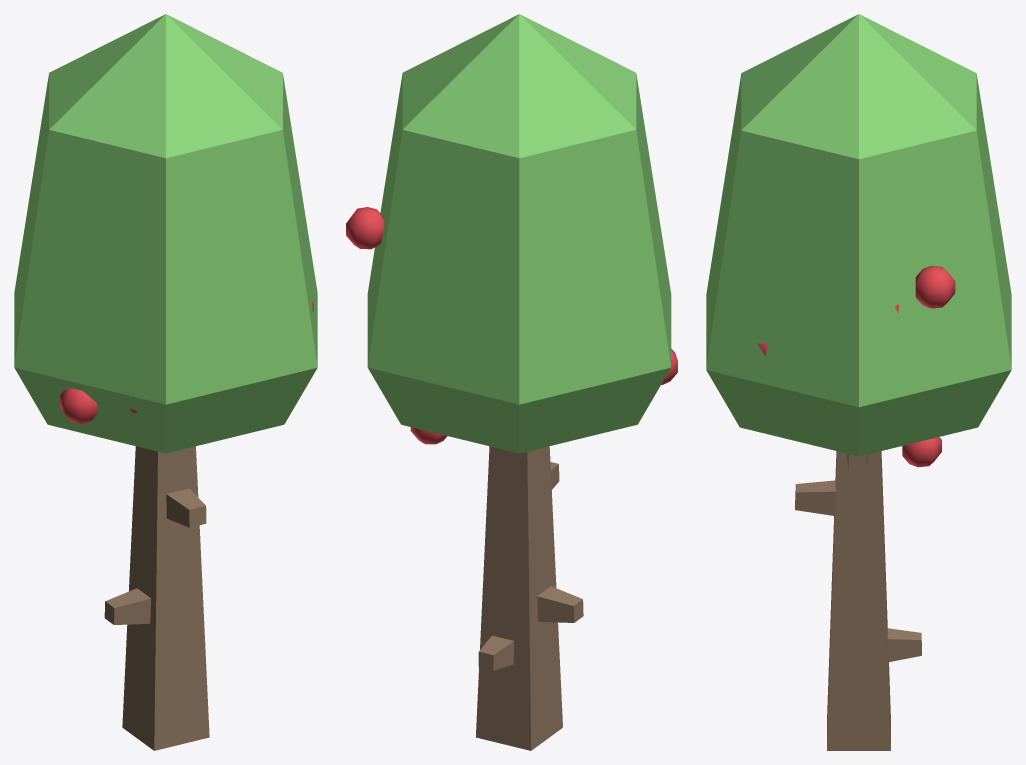
The model's file is tree_apple.glb.
The picture shows the model from 3 angles, left to right: view 1: azimuth 30°, elevation 25°; view 2: azimuth 150°, elevation 25°; view 3: azimuth 270°, elevation 25°; orthographic projection.
Parts seen in each view (by area): view 1: tree_default, apple.003; view 2: tree_default, apple.002; view 3: tree_default, apple.002, apple.010.
Boxes of the visible parts, x1,y1,x2,y2 form: tree_default: (14, 14, 317, 750); apple.003: (60, 388, 98, 423); tree_default: (367, 14, 671, 750); apple.002: (346, 207, 384, 249); tree_default: (706, 14, 1011, 750); apple.002: (915, 266, 955, 308); apple.010: (902, 437, 941, 467).
Size of the model in its own units: 1.37 by 3.1 by 1.19.
